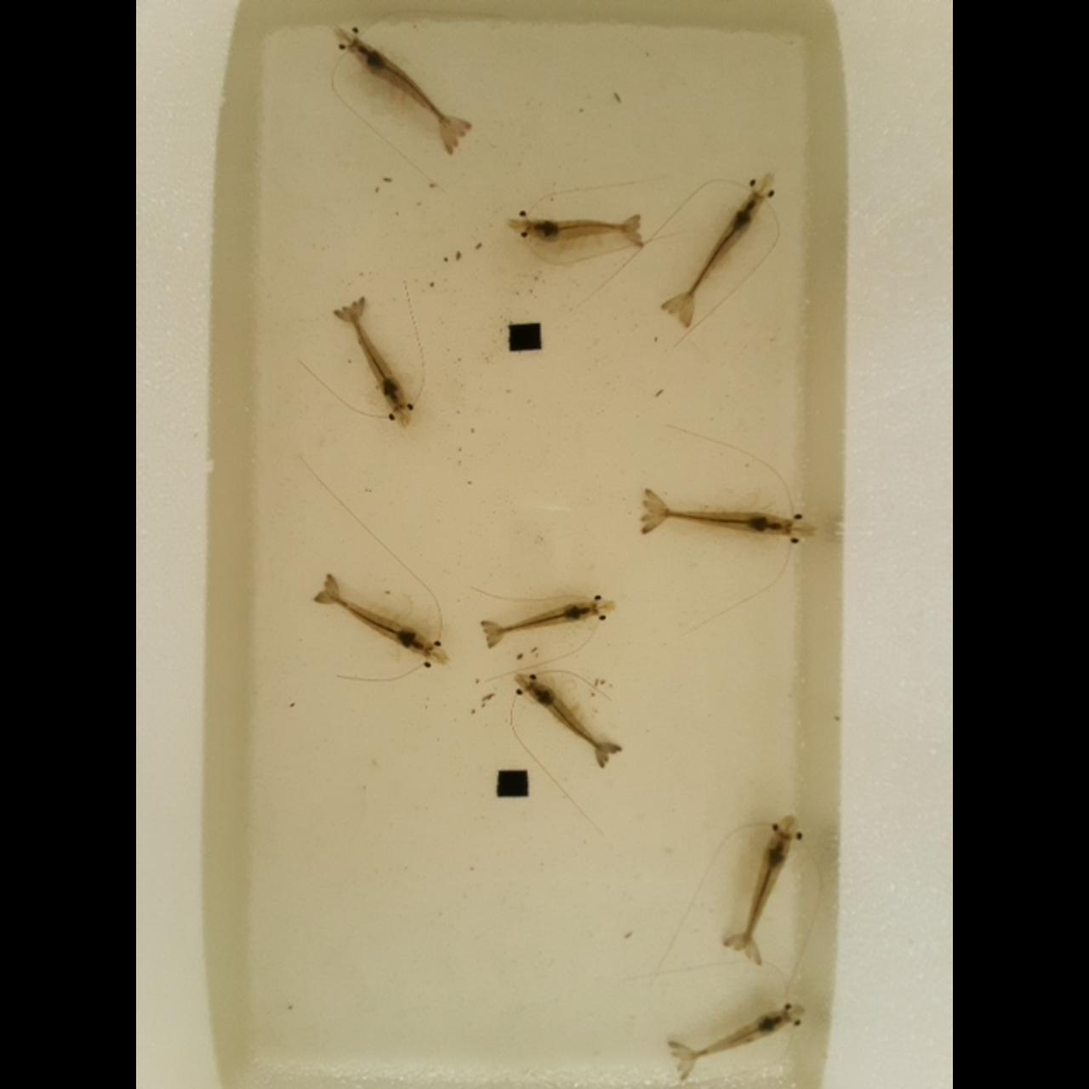box: (509, 323, 541, 351), (499, 769, 527, 795)
side_shrimp: (527, 219, 636, 240)
top_shrimp: (350, 37, 454, 130), (681, 196, 761, 305), (330, 594, 427, 652), (527, 681, 606, 752), (349, 311, 405, 407), (744, 835, 788, 944), (691, 1014, 784, 1057), (657, 510, 788, 533), (497, 606, 592, 631)
